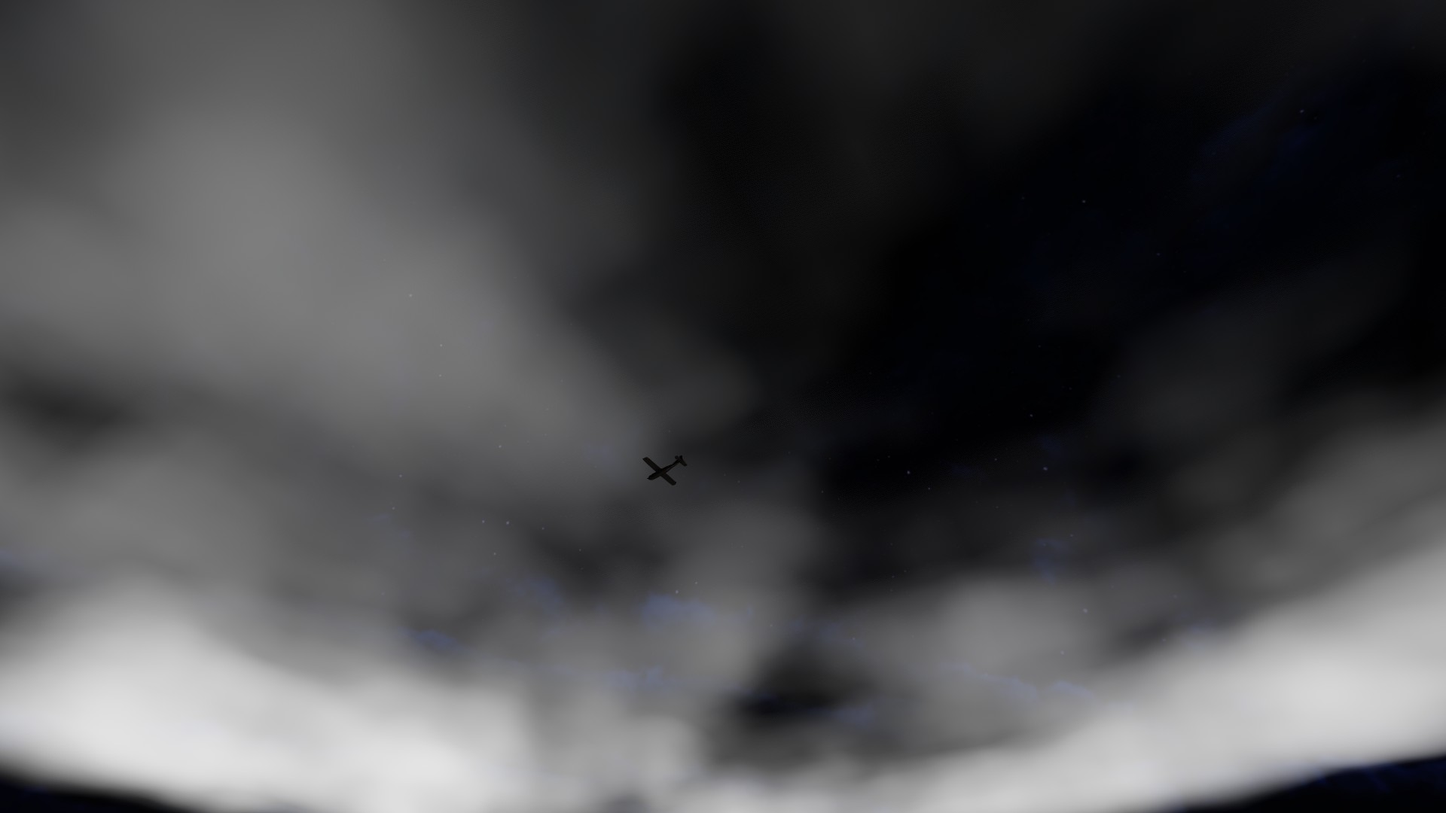drone_other: (643, 455, 687, 486)
